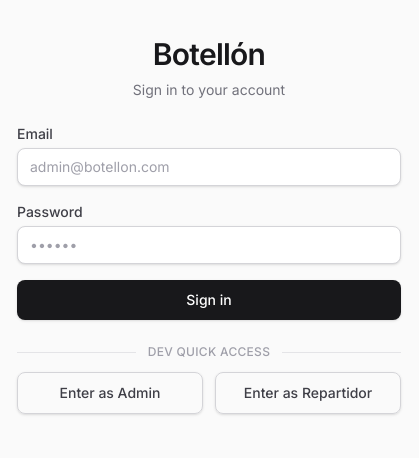
Test: LoginPage — client-side validation › shows "Email is required" when email is empty
Type valid password, leave email empty
Type "validPassword123" into the password field labelled "Password" at (209, 245), box [17,226,401,264]
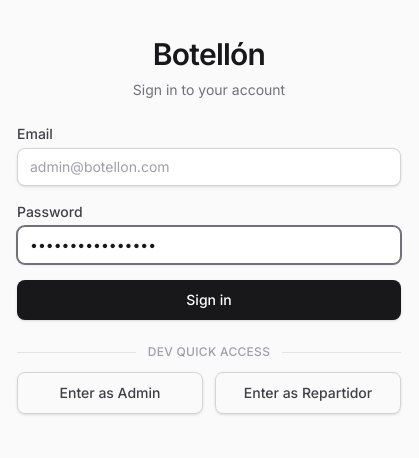
Submit the form "Email Password Sign in", box [17,124,401,320]
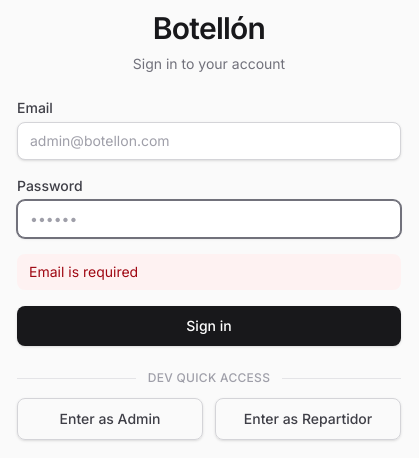
Check: the text "Email is required" is shown, box [17,254,401,290]
